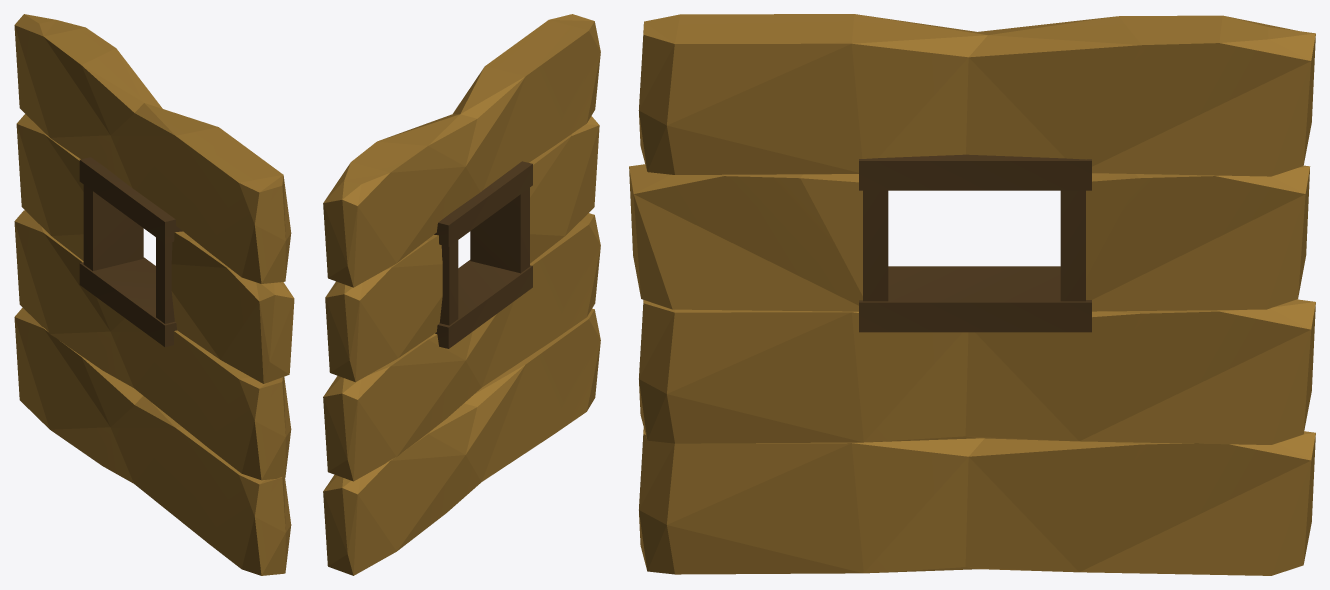
Rendered from WallWindow.fbx.
3 views of the same model, side by side, from view 1: azimuth 30°, elevation 25°; view 2: azimuth 150°, elevation 25°; view 3: azimuth 270°, elevation 25° (orthographic). The views are drawn at different scales.
Visible parts, largest first — view 1: WallWindow; view 2: WallWindow; view 3: WallWindow.
Part boxes in pixels (x1,y1,x2,y2): WallWindow: [14, 14, 294, 575]; WallWindow: [323, 14, 600, 575]; WallWindow: [629, 14, 1315, 575].
Size of the model in its own units: 58.73 by 394 by 455.
